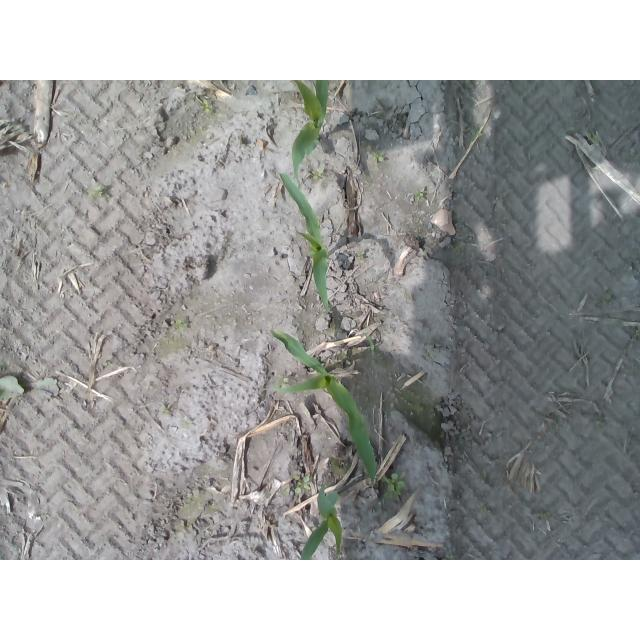Maize: (267, 327, 377, 481), (277, 171, 330, 312), (290, 80, 330, 180), (298, 484, 343, 561)
Weeds: (0, 374, 60, 400), (281, 472, 311, 497), (380, 473, 408, 495), (199, 98, 214, 114), (275, 375, 290, 389), (371, 150, 384, 162), (310, 170, 322, 181), (92, 184, 105, 193), (414, 189, 424, 200), (175, 320, 185, 329)
